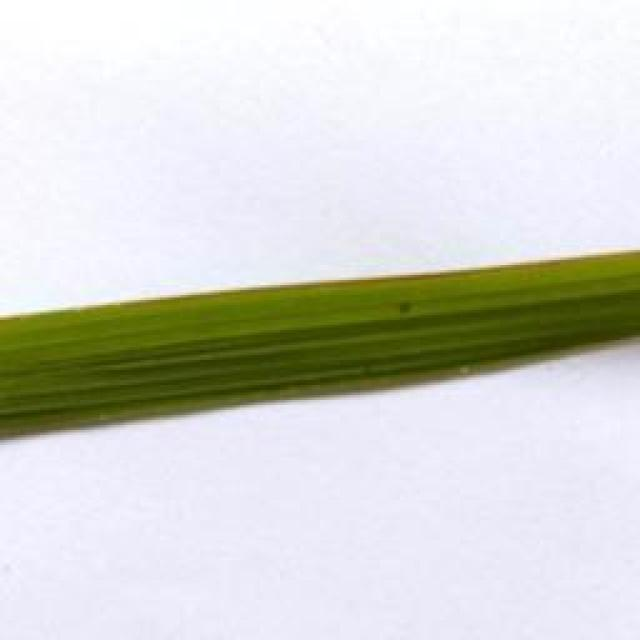Brown_Spot: (392, 296, 423, 312)
